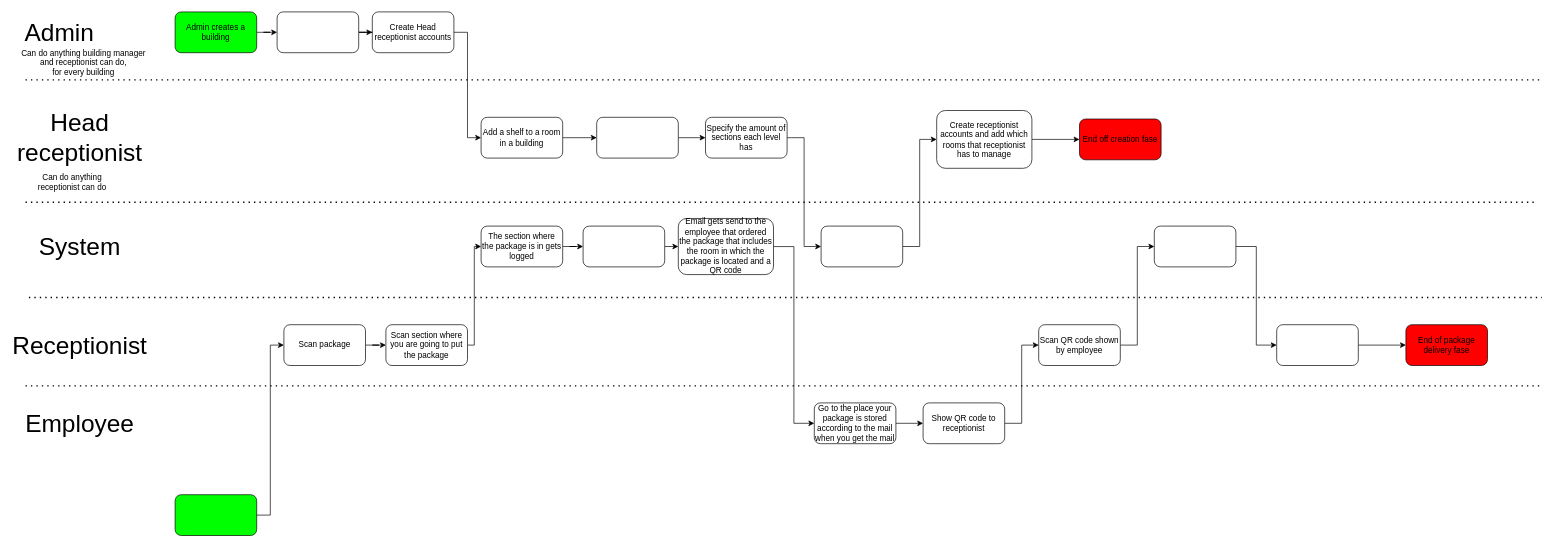
This 1554x547 diagram has some shape labels left out. Here are the shapes that lost their labels. From the top down, the box of each, then its label:
(276, 11, 359, 53): Create different Rooms in the building
(596, 117, 678, 158): Specify the amount of levels for that shelf
(582, 225, 665, 267): Generate QR code for that package
(820, 225, 903, 267): Print QR codes for each section
(1154, 225, 1236, 267): Show the spot in which the package that is linked to that QR code is located
(1276, 324, 1358, 366): Get package from the spot shown by the system
(174, 494, 257, 536): Package gets delivered
